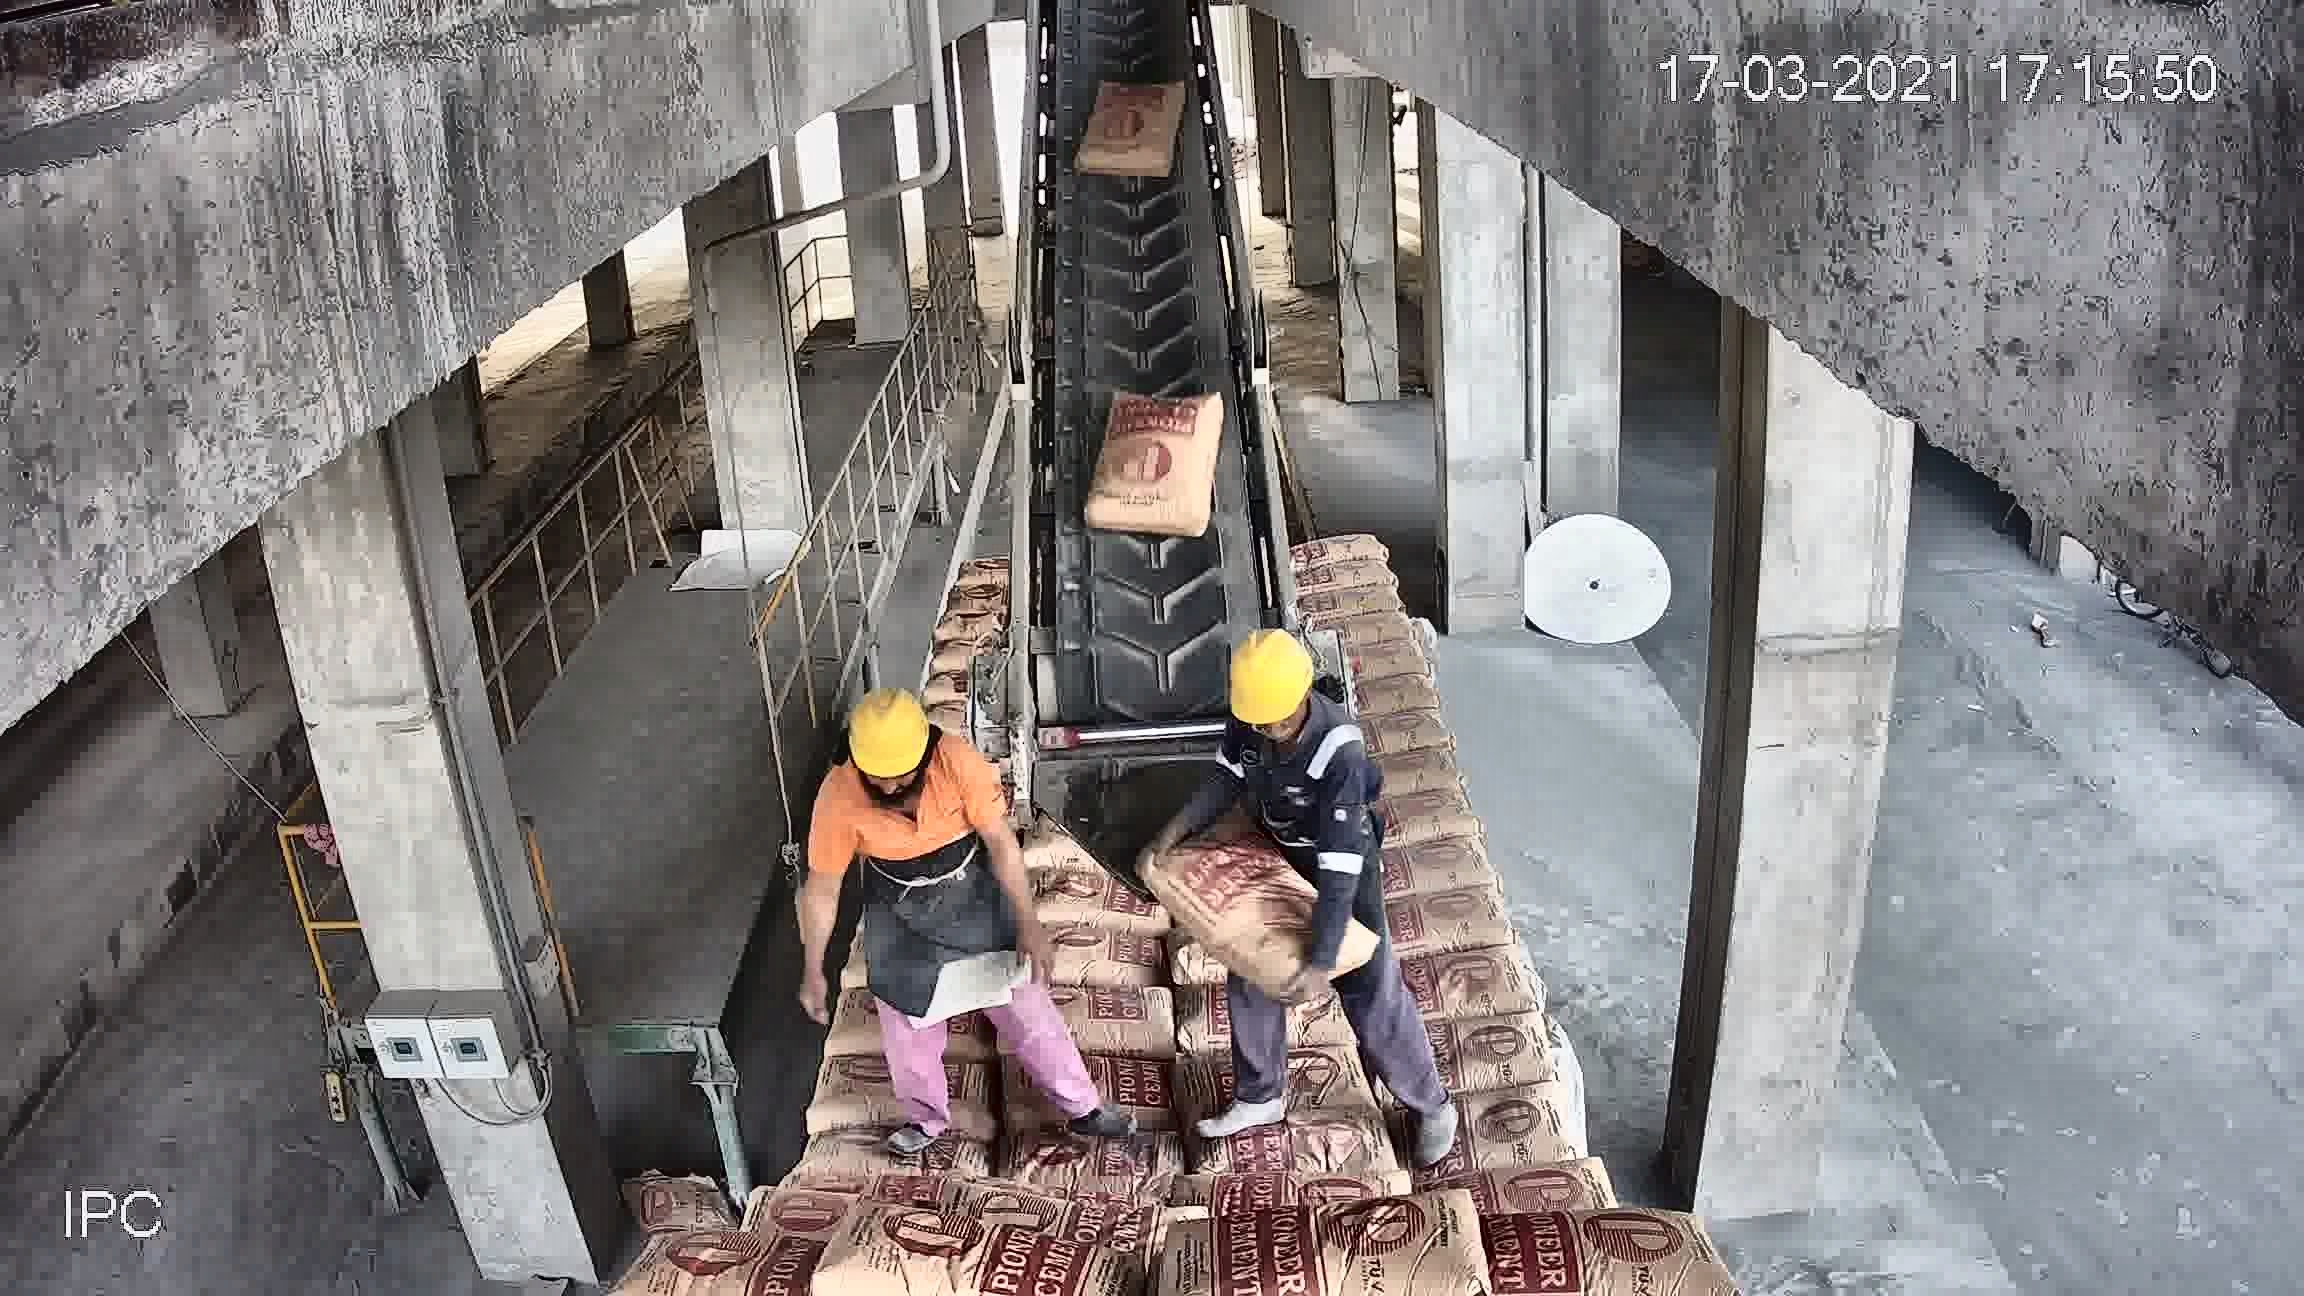bag: (1092, 385, 1226, 536), (1068, 73, 1195, 179)
bag_h: (1150, 802, 1339, 994), (1209, 1211, 1519, 1294), (1438, 1203, 1698, 1293), (820, 1226, 1106, 1296), (1364, 1090, 1549, 1185), (780, 1112, 978, 1196), (1003, 1119, 1188, 1207), (631, 1225, 851, 1296), (1192, 1055, 1378, 1138), (1405, 1013, 1578, 1101), (809, 1059, 999, 1131), (1386, 946, 1551, 1027), (1180, 1163, 1405, 1214), (1438, 1161, 1609, 1223), (1188, 1120, 1393, 1169), (1377, 828, 1492, 907), (1389, 881, 1506, 956), (1377, 783, 1473, 850), (1301, 585, 1407, 627), (1301, 555, 1399, 595), (1298, 536, 1391, 562)
belt: (1008, 40, 1287, 862)
